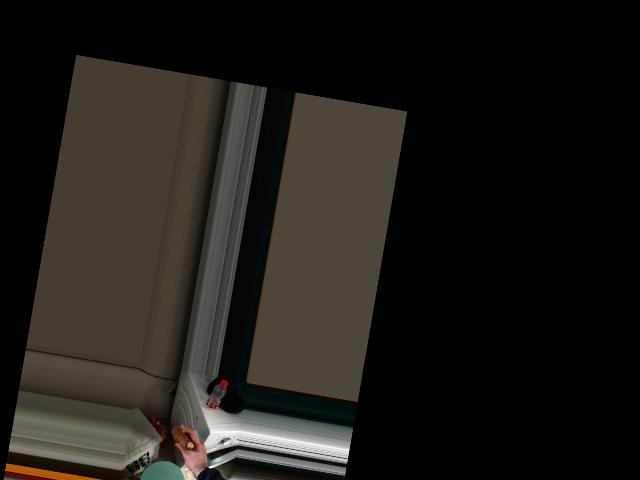sweet_potato: (169, 422, 200, 454)
